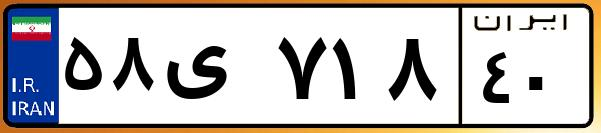0: (525, 38, 570, 115)
1: (330, 28, 385, 110)
4: (475, 38, 525, 113)
5: (57, 26, 110, 100)
7: (270, 28, 330, 110)
8: (385, 28, 445, 110), (110, 28, 158, 98)
ی: (158, 20, 270, 120)
